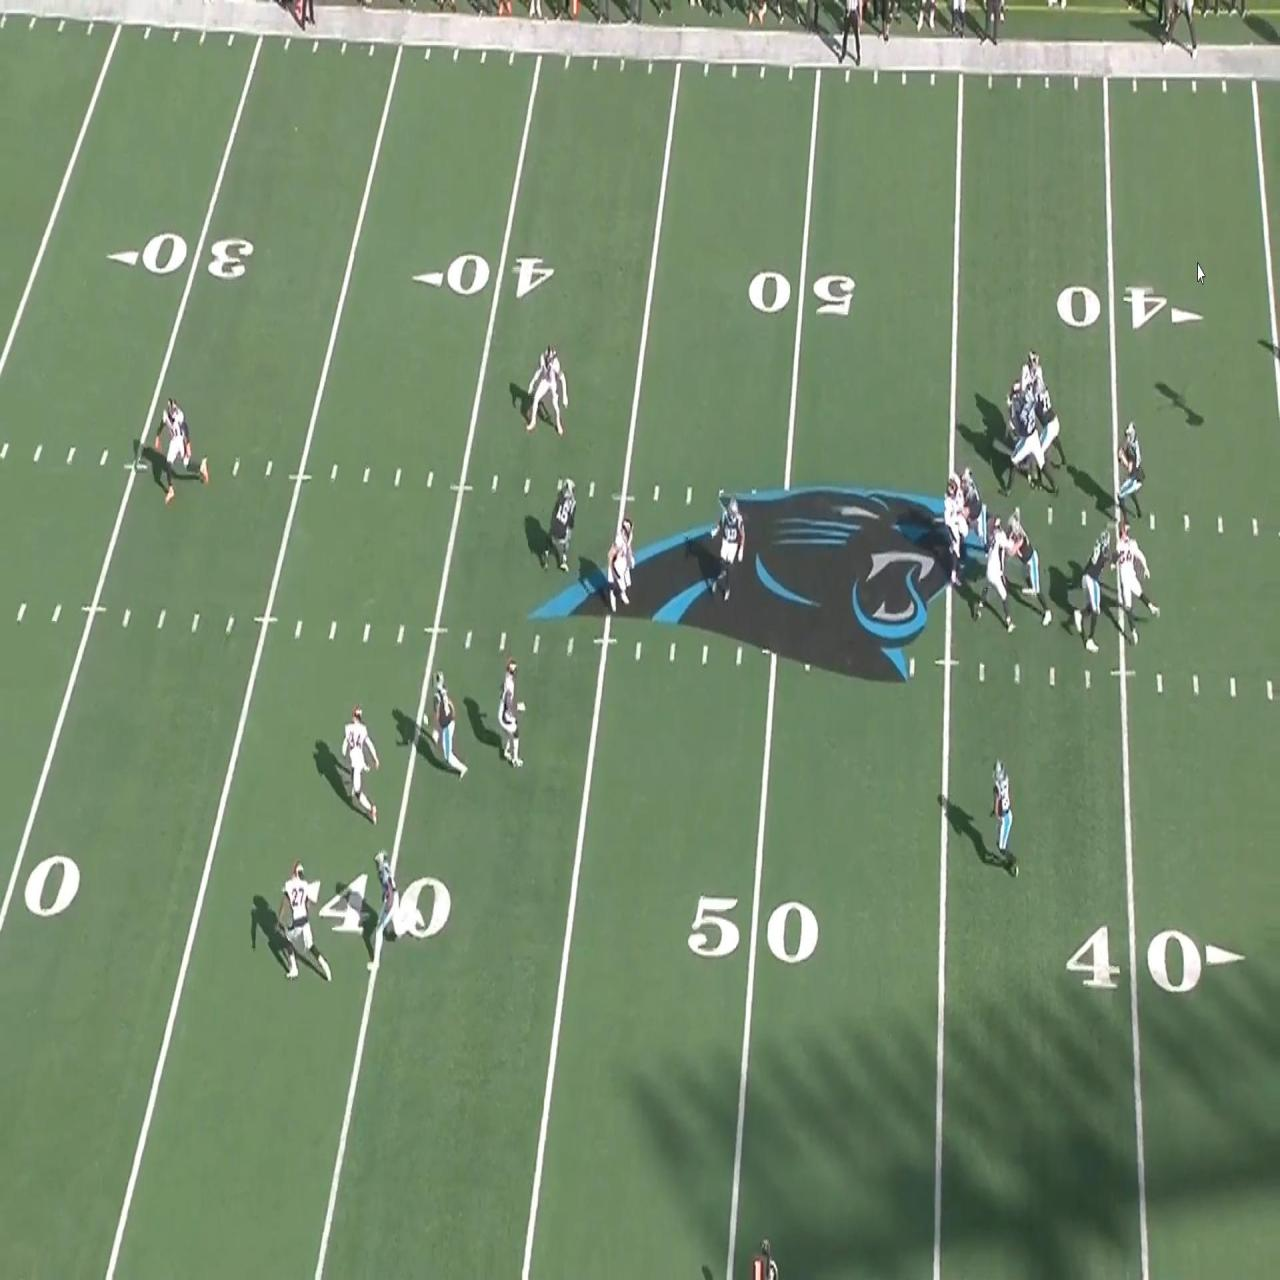30L: (108, 230, 256, 281)
40L: (282, 873, 450, 939), (410, 254, 554, 299)
40R: (1064, 925, 1246, 996), (1054, 282, 1203, 329)
50: (686, 887, 818, 964), (748, 272, 856, 315)
